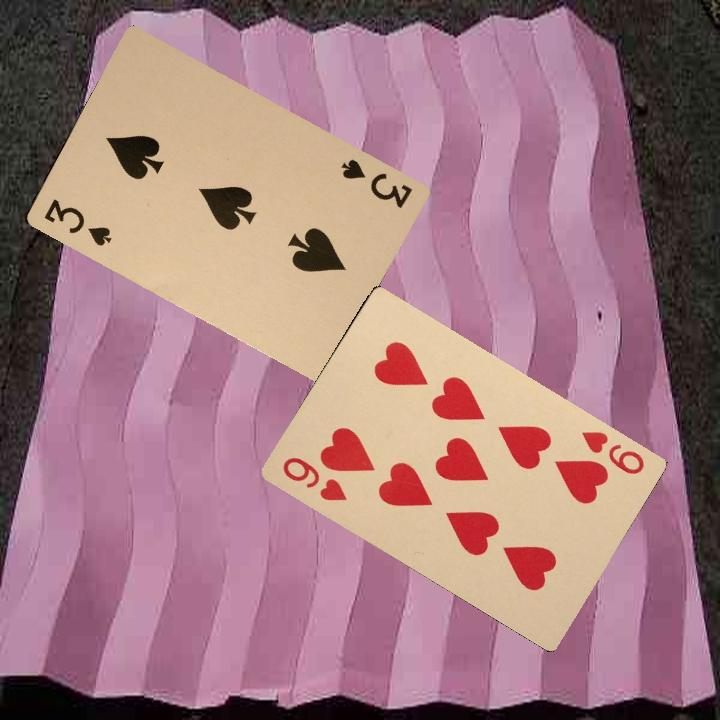3s: (337, 154, 415, 211), (40, 195, 114, 249)
9h: (278, 453, 350, 504), (578, 427, 647, 477)
